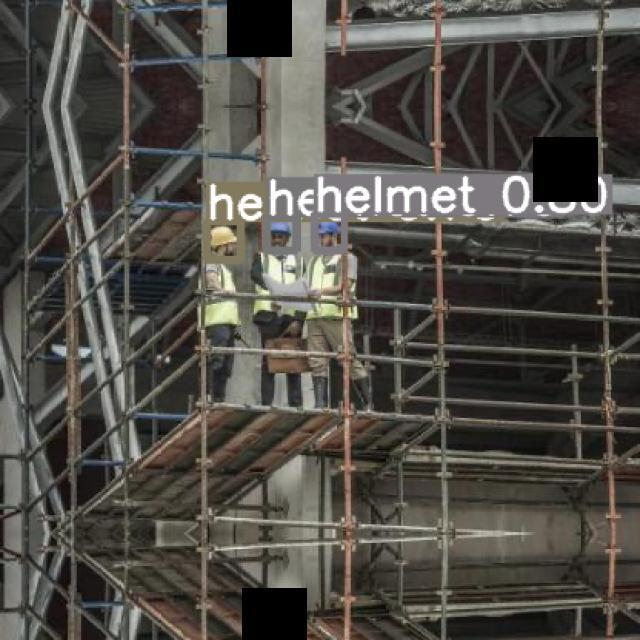helmet: (209, 226, 237, 247), (317, 221, 339, 235), (270, 222, 291, 235)
